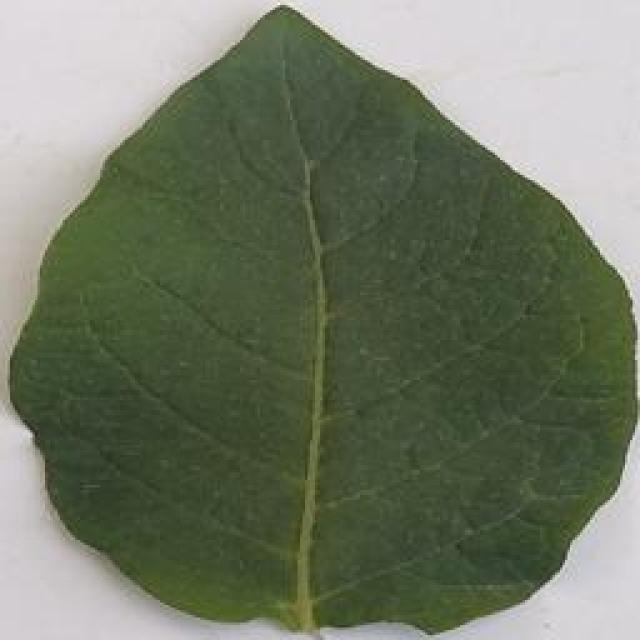Potato_Healthy: (3, 2, 635, 628)
